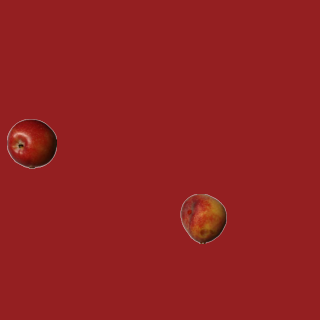Apple Braeburn: (6, 118, 56, 168)
Peach: (178, 193, 228, 243)
